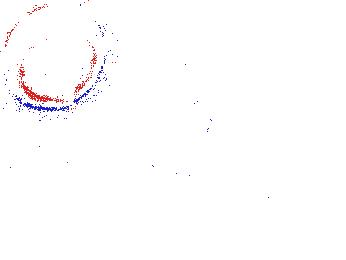moon jellyfish: (116, 78, 234, 174), (3, 5, 107, 111), (55, 2, 149, 89)
